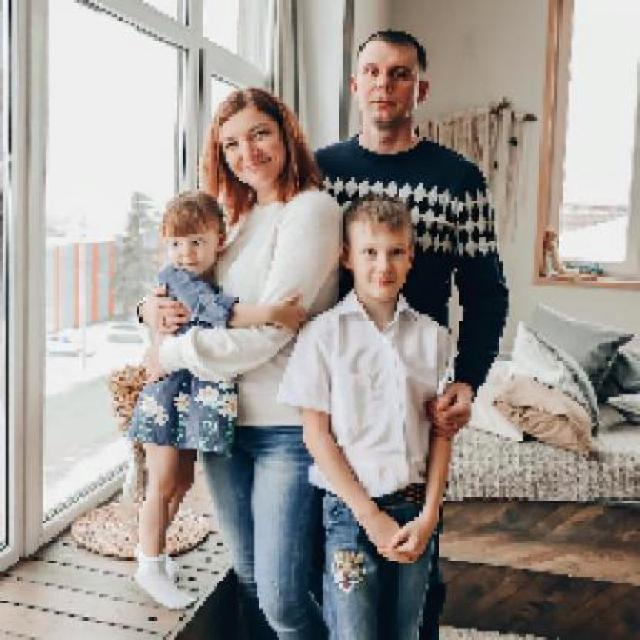child: (122, 190, 312, 610)
